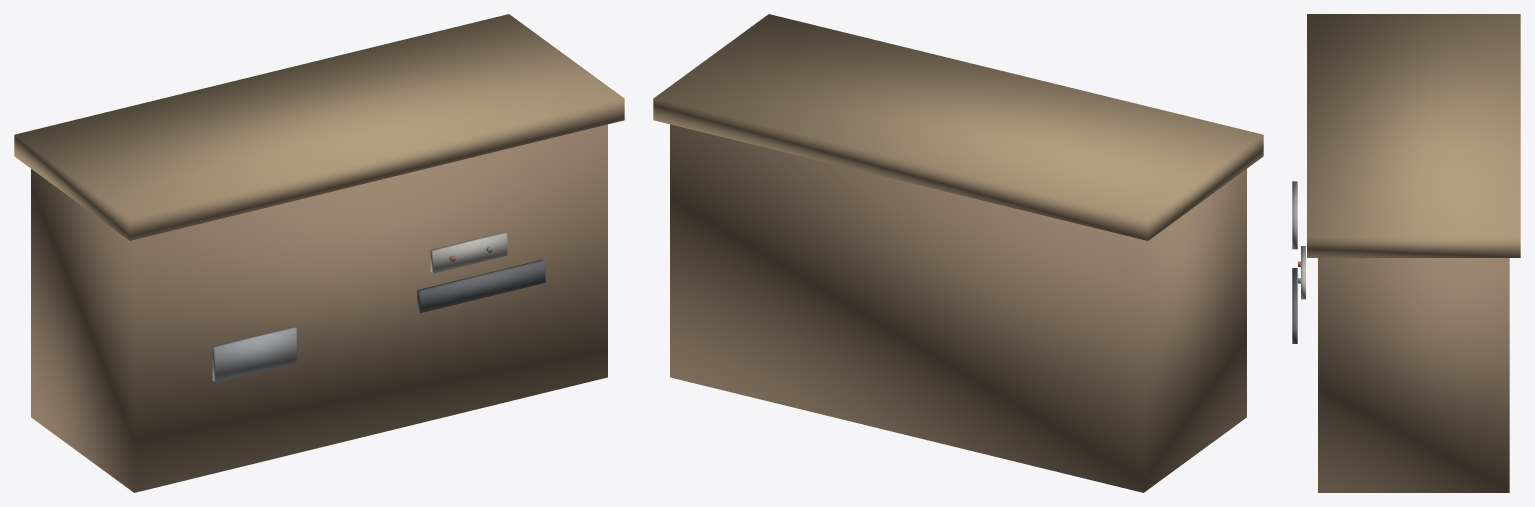
The model's file is florist_wrapping_counter__weathered.glb.
3 renders of one model, left to right at view 1: azimuth 30°, elevation 25°; view 2: azimuth 150°, elevation 25°; view 3: azimuth 270°, elevation 25°, orthographic. The views are drawn at different scales.
Parts seen in each view (by area): view 1: world; view 2: world; view 3: world.
Boxes of the visible parts, x1,y1,x2,y2 form: world: (14, 14, 624, 492); world: (653, 14, 1263, 492); world: (1292, 14, 1520, 492).
Size of the model in its own units: 1.88 by 1.02 by 0.812.
